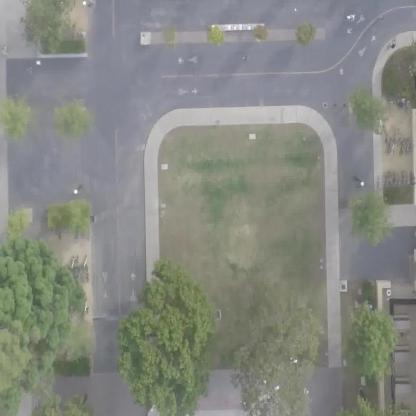Bicyclist: (383, 31, 403, 52), (342, 8, 362, 28), (374, 8, 394, 28), (237, 46, 255, 67)
